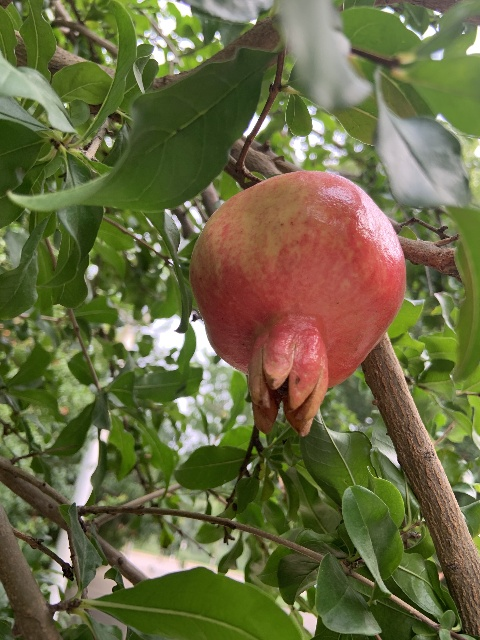ripe: (190, 170, 406, 437)
